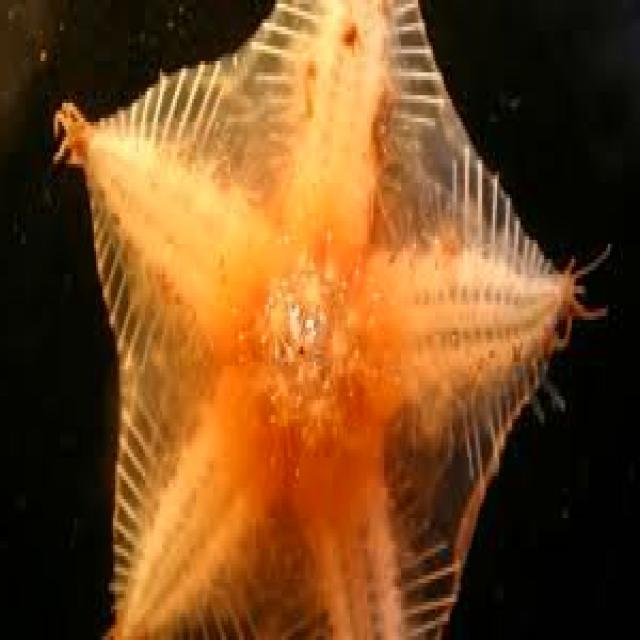starfish: (55, 0, 593, 636)
